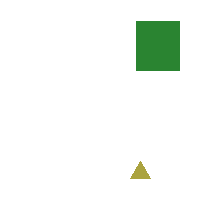rectangle: (136, 21, 179, 70)
triangle: (130, 161, 150, 178)
